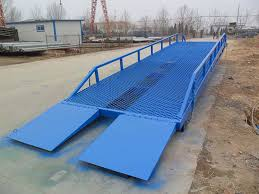Yard Ramp: (6, 31, 228, 182)
